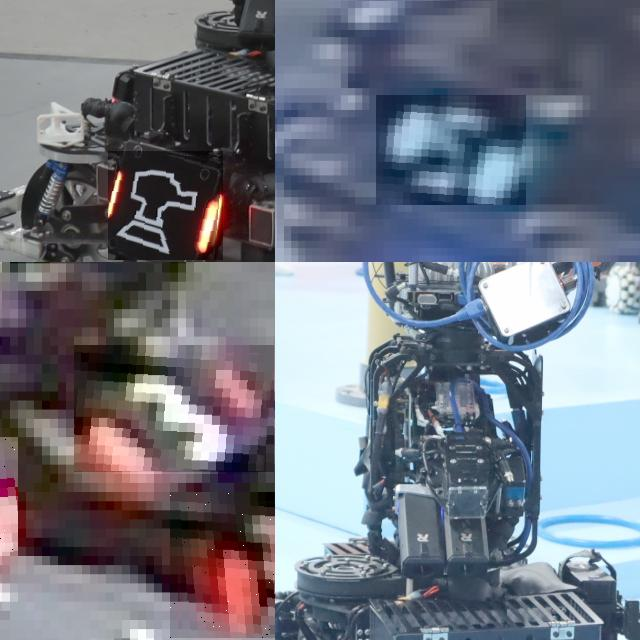B5: (376, 95, 526, 205)
R3: (74, 346, 274, 474), (170, 491, 275, 638)
Rs: (108, 151, 223, 260)
